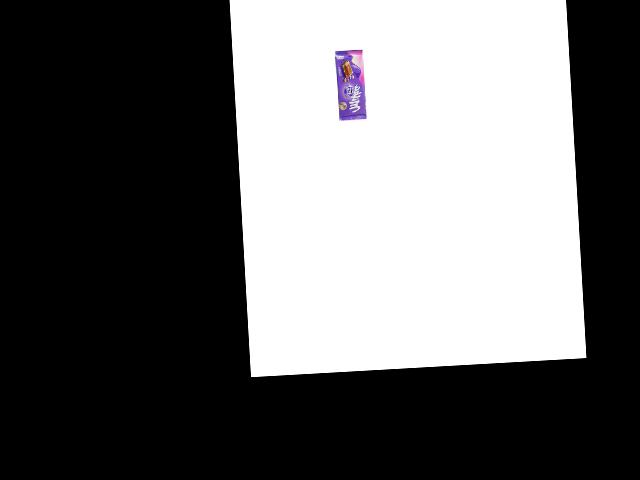chocolate: (334, 49, 367, 121)
